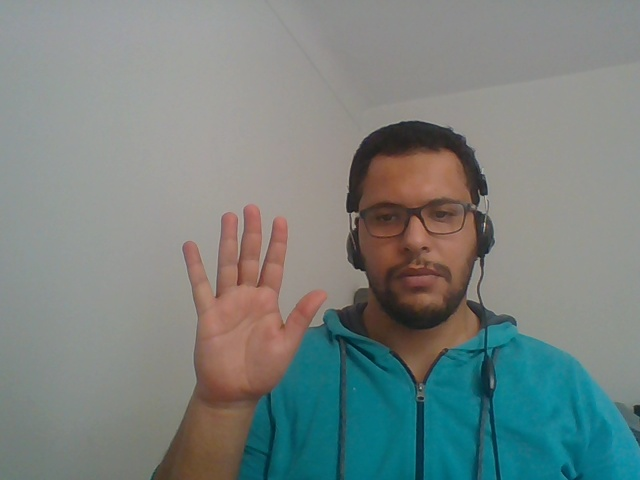hello: (162, 180, 341, 442)
